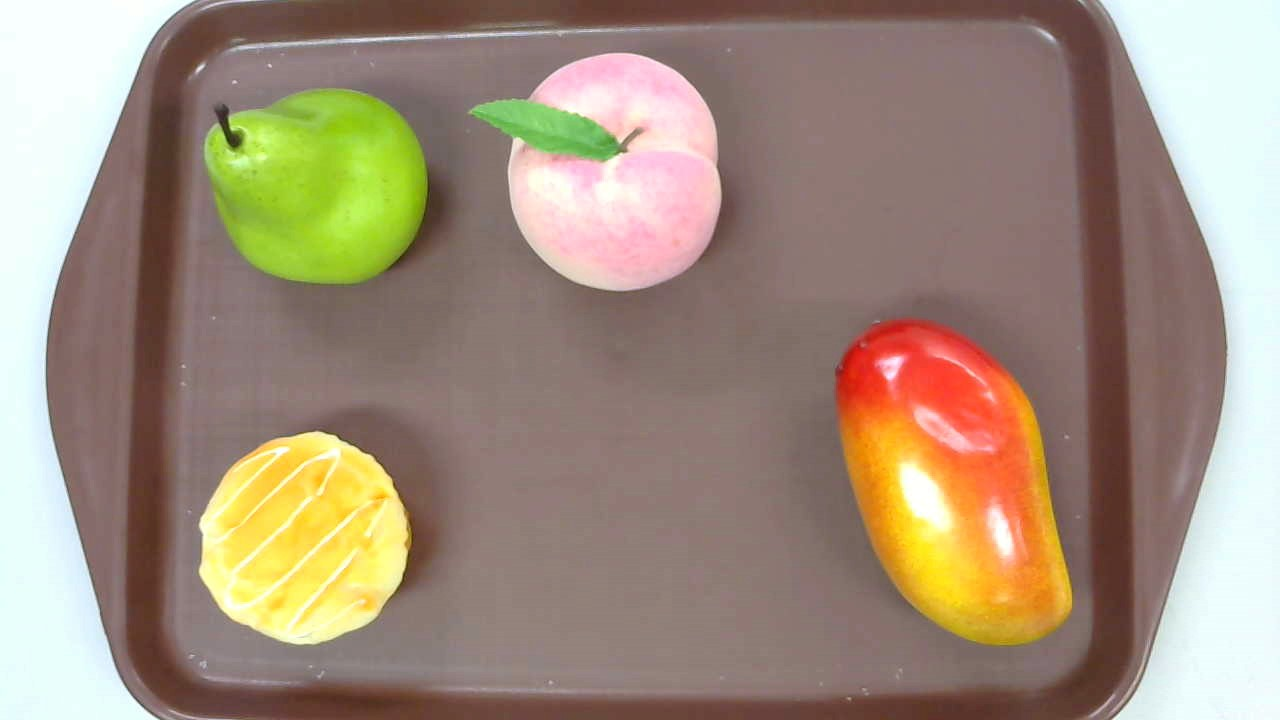cupcake: (197, 430, 410, 646)
green pear: (204, 88, 428, 284)
peaches: (467, 53, 722, 292)
red mango: (835, 318, 1073, 646)
